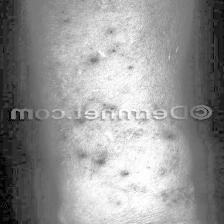Non-Cancerous Skin Condition: (73, 130, 177, 224), (62, 0, 128, 75)
